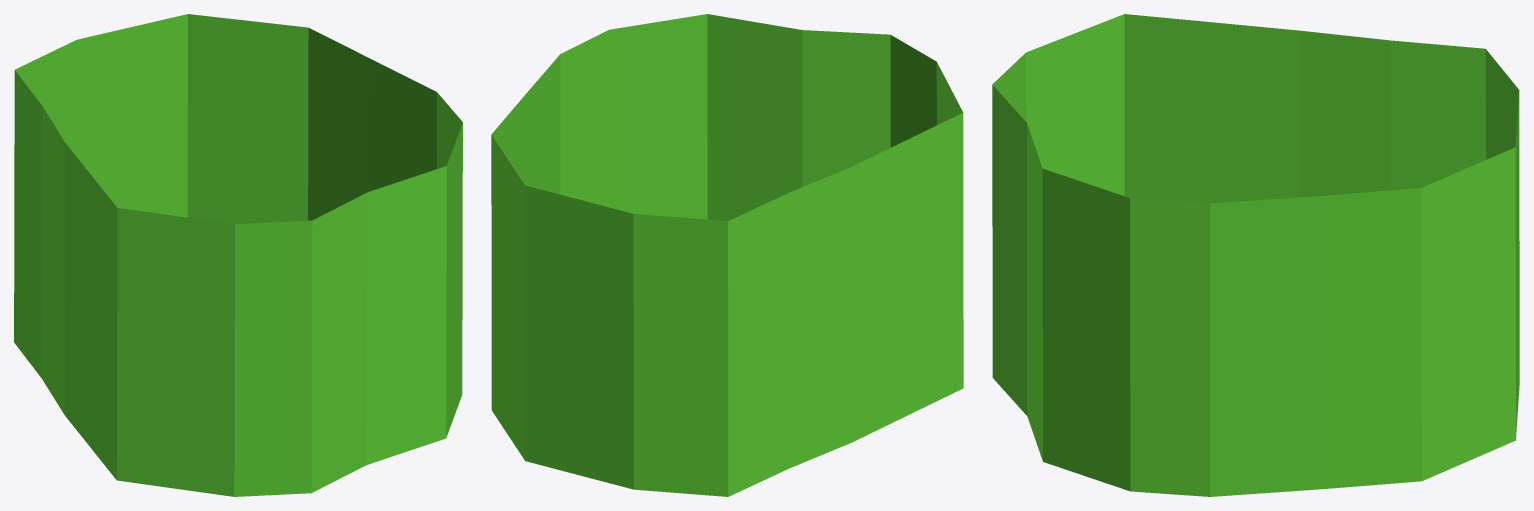
Rendered from InvWall3.fbx.
3 renders of one model, left to right at view 1: azimuth 30°, elevation 25°; view 2: azimuth 150°, elevation 25°; view 3: azimuth 270°, elevation 25°, orthographic. The views are drawn at different scales.
Parts seen in each view (by area): view 1: Island 4.001; view 2: Island 4.001; view 3: Island 4.001.
Boxes of the visible parts, x1,y1,x2,y2 form: Island 4.001: [14, 14, 462, 496]; Island 4.001: [491, 14, 963, 496]; Island 4.001: [992, 14, 1519, 496].
Size of the model in its own units: 1380 by 1005 by 1628.
